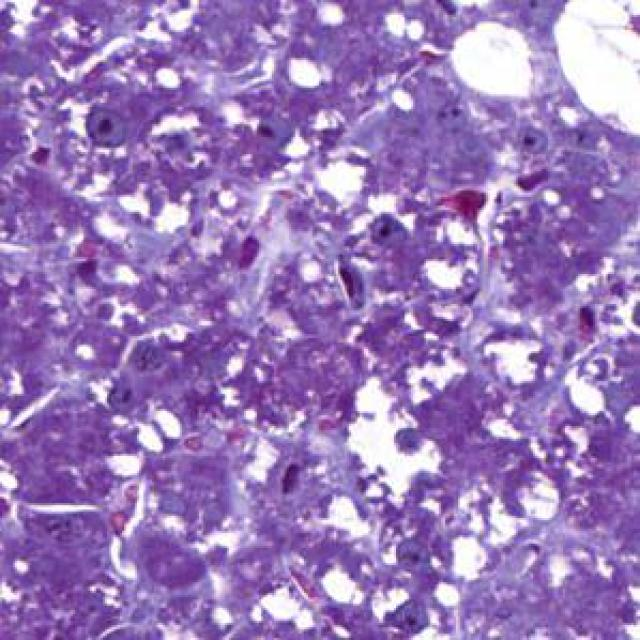ballooning: (546, 7, 634, 142), (434, 15, 548, 109)
